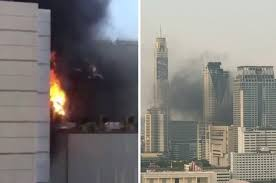fire: (47, 50, 74, 120)
